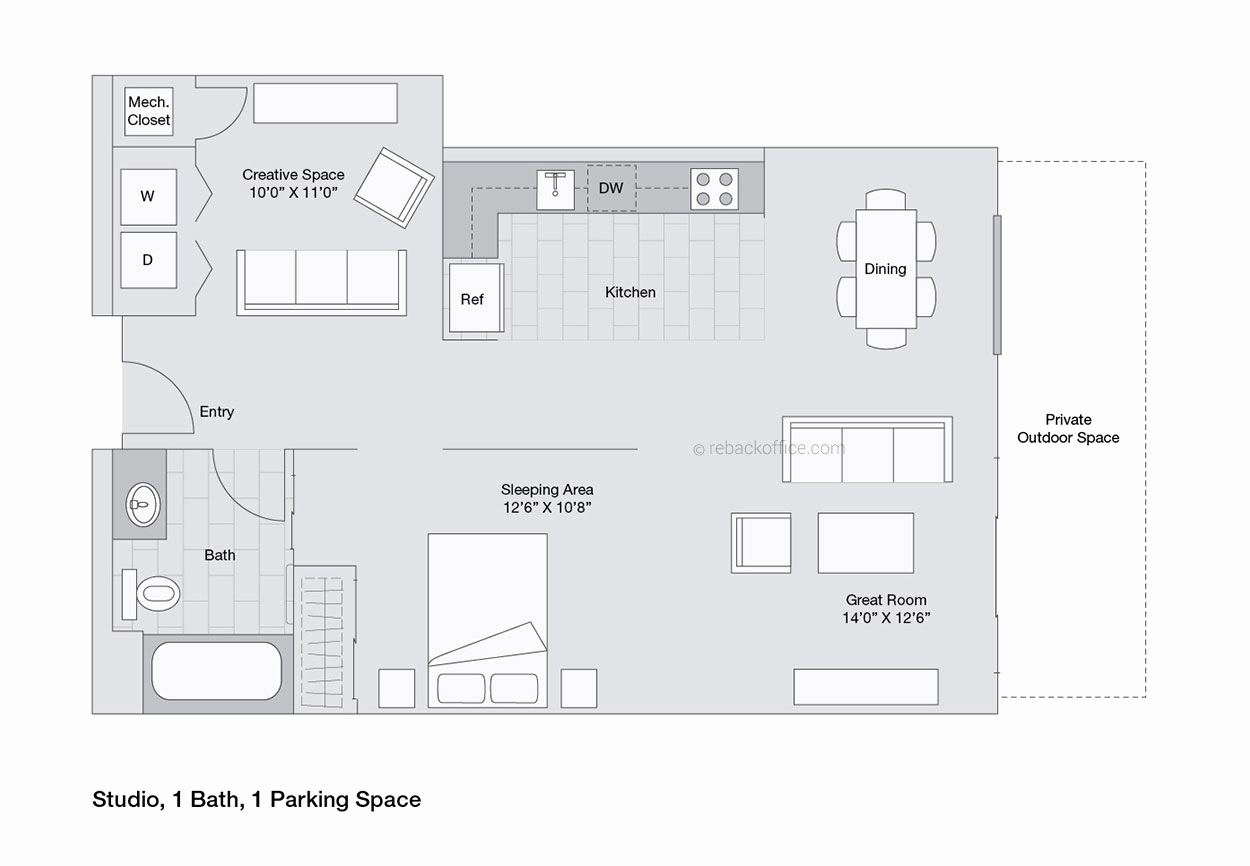door: (204, 458, 289, 535), (139, 352, 202, 441), (206, 81, 252, 134)
